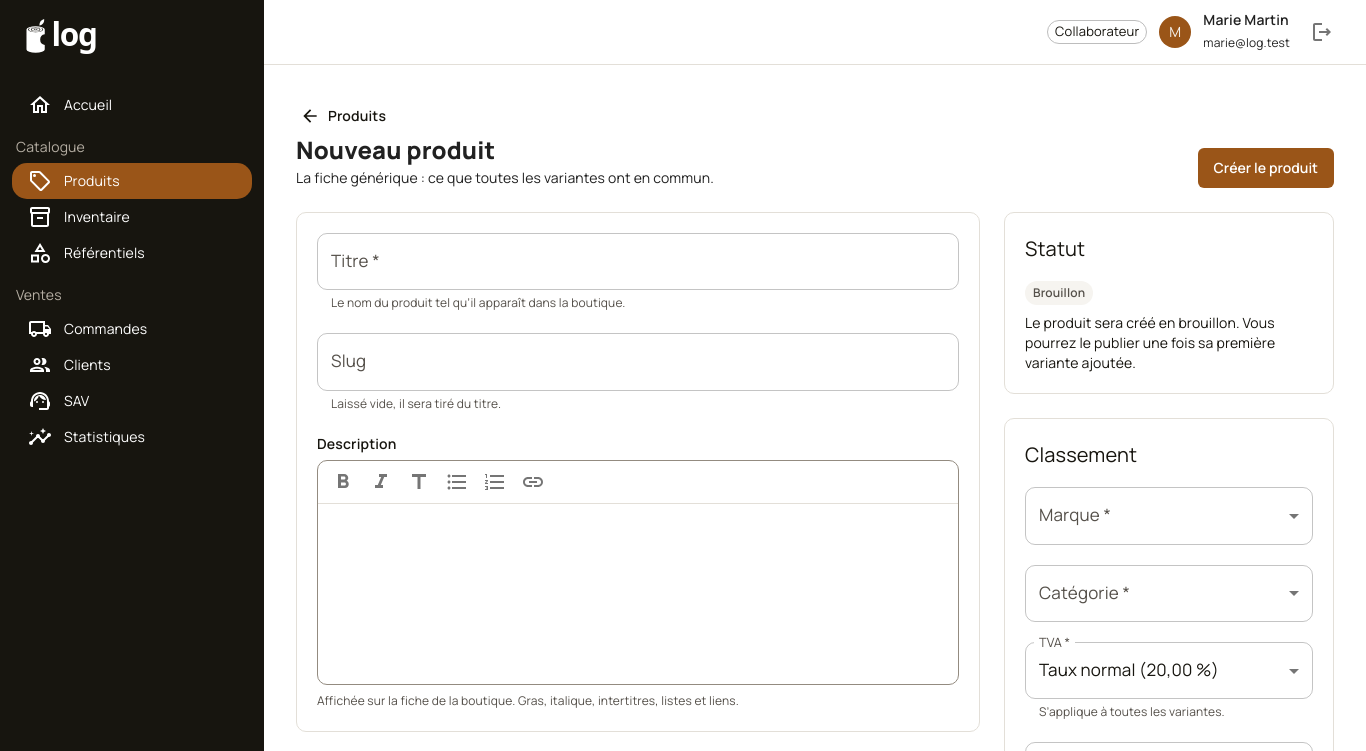
it: the product form (C16) › says what is missing next to each field, without calling the API
The width and height of the screenshot is (1366, 751).
Step 1. Click the button "Créer le produit" → coordinates (1266, 168), box [1198,148,1334,188]
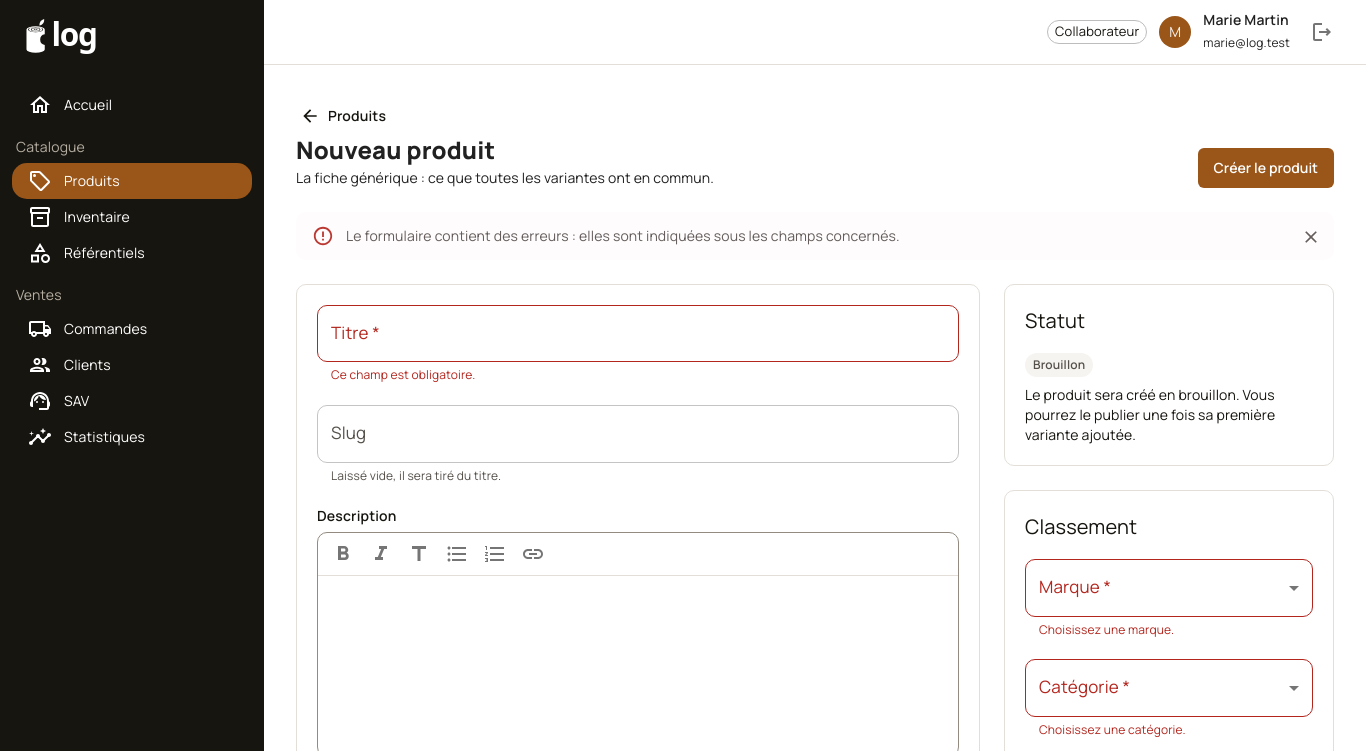
Expected: the text "Ce champ est obligatoire." is shown, [331,366,476,384]
Expected: the text "Choisissez une marque." is shown, [1039,620,1174,638]
Expected: the text "Choisissez une catégorie." is shown, [1039,721,1186,738]
